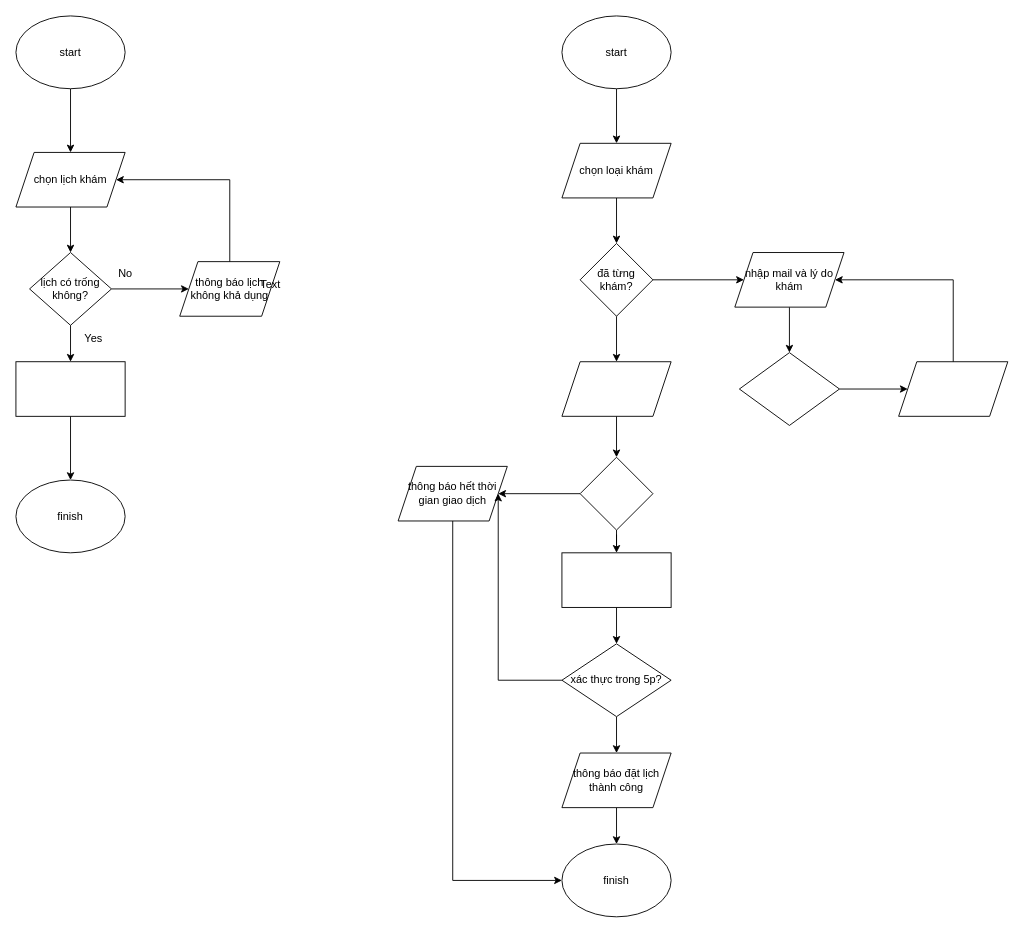
Image size: 1024x933. Some labels were removed from this diagram. Each missing label, with the centre of its shape:
check mail có tồn tại không?: point (788, 388)
còn thời gian giao dịch: point (616, 493)
gửi link xác thực qua mail + reset trạng thái ca khám pending 5p: point (616, 579)
hiển thị form nhập theo từng loại khám + trạng thái lịch đã chọn => pending 15p: point (70, 388)
hiển thị form nhập thông tin: point (616, 388)
thông báo không tìm thấy mail: point (953, 388)
